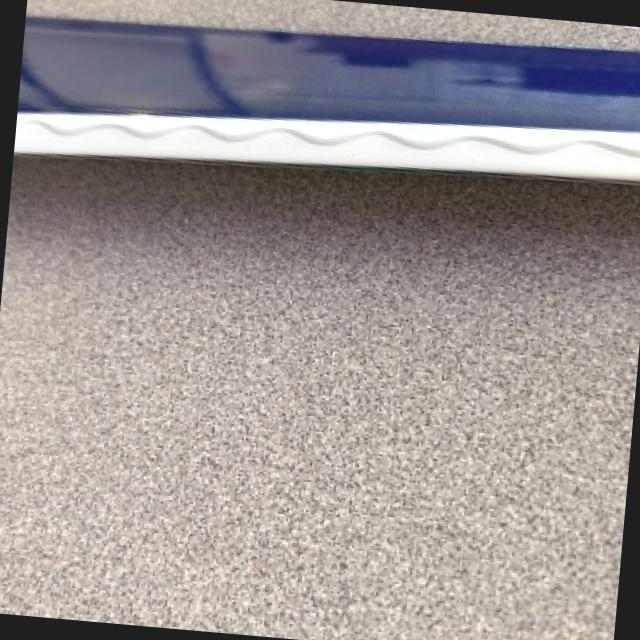healthy: (16, 3, 640, 179)
